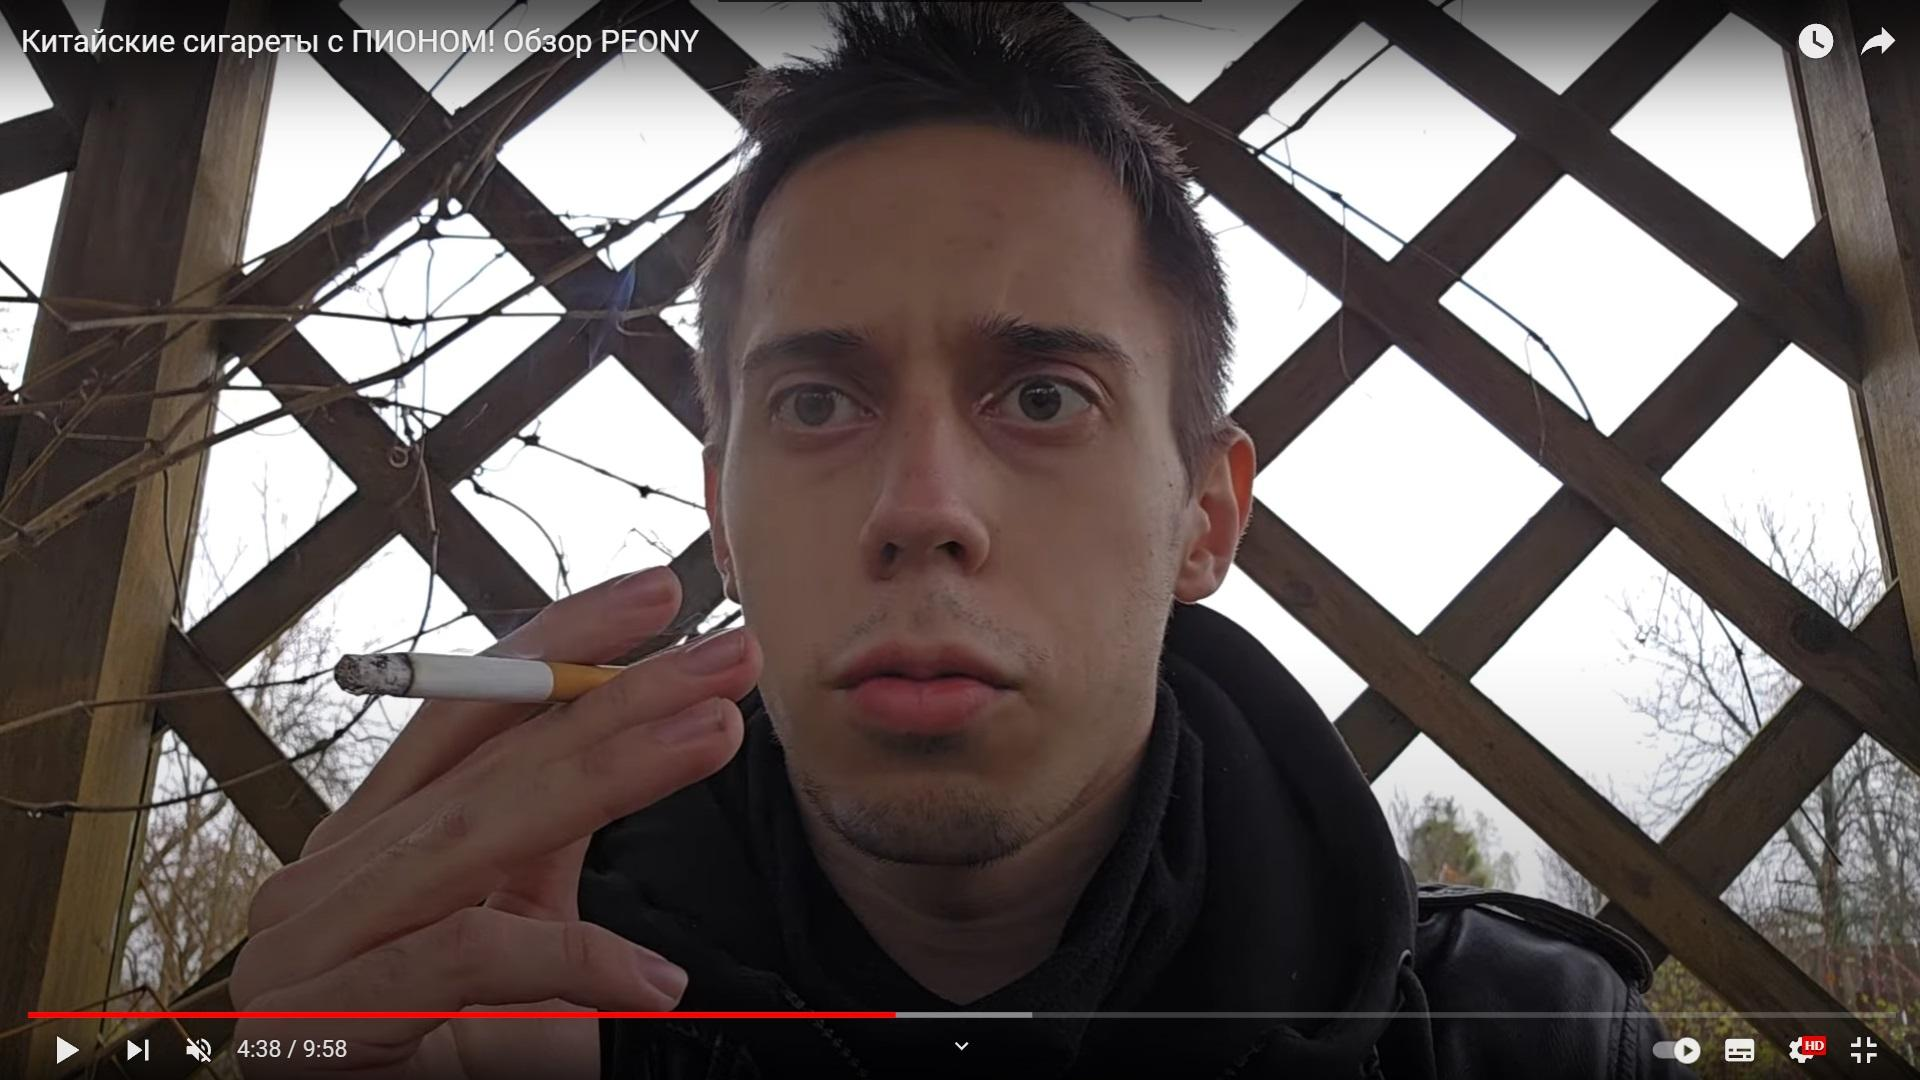cigarette: (332, 651, 626, 702)
